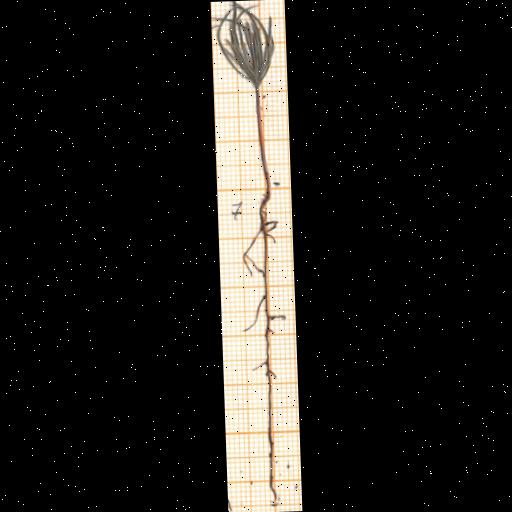flowerPinus: (215, 1, 274, 86)
rootPinus: (243, 189, 277, 503)
stemPinus: (255, 87, 270, 190)
